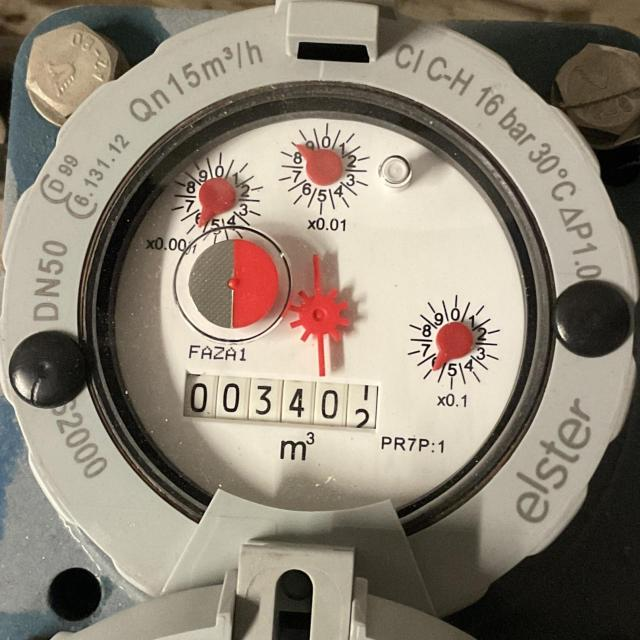gaz_meter: (86, 87, 551, 523)
indication: (181, 371, 381, 431)
